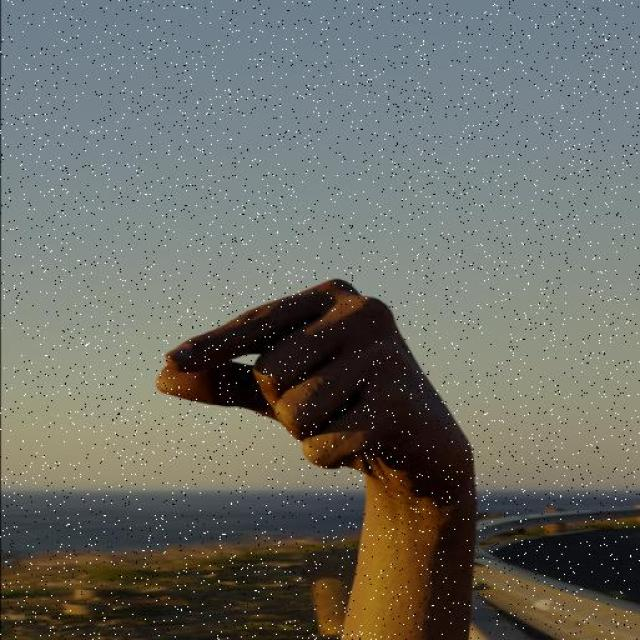G: (150, 273, 482, 482)
